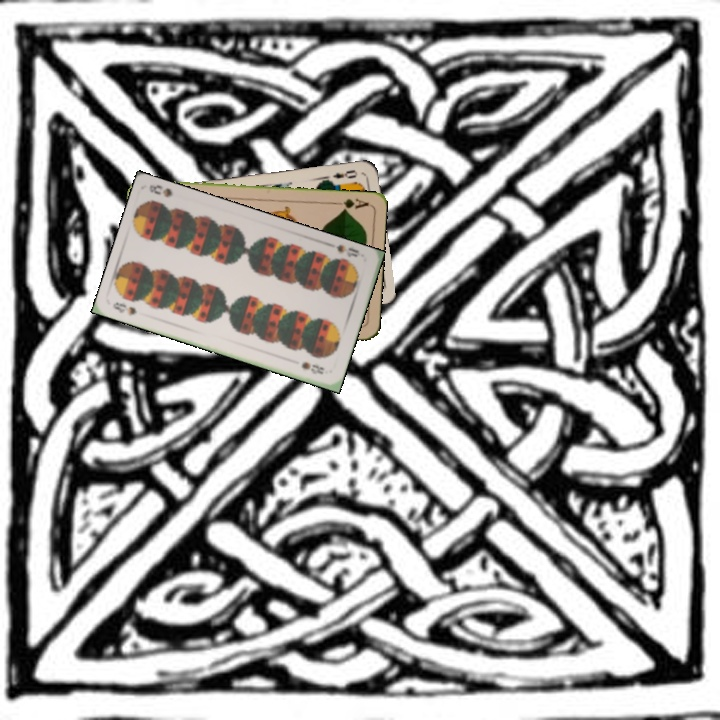EO: (329, 166, 360, 181)
GA: (330, 194, 371, 213)
S8: (109, 298, 139, 318), (332, 240, 361, 260)
